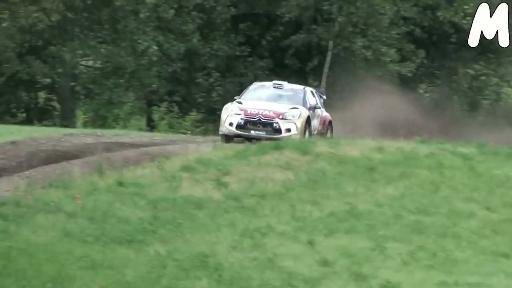CAR: (211, 61, 346, 156)
